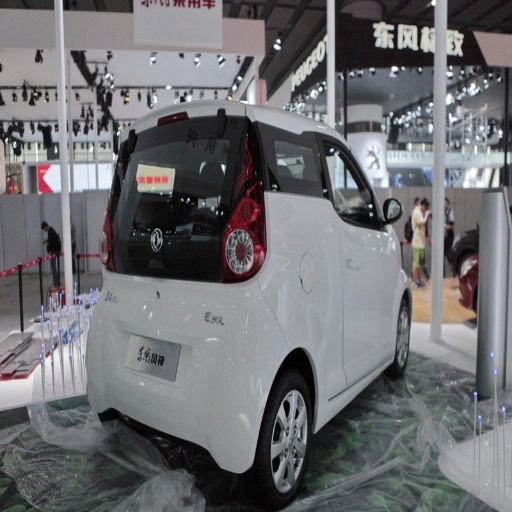back_bumper: (97, 387, 252, 469)
back_right_door: (280, 132, 342, 307)
trunk: (108, 272, 282, 430)
